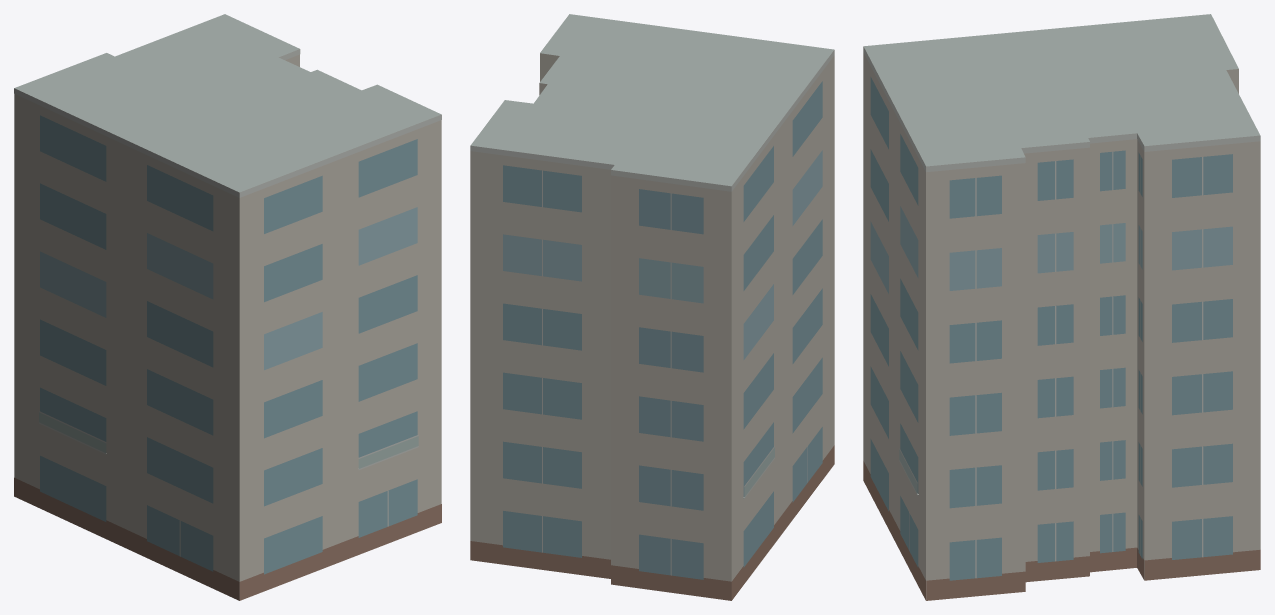
The model's file is survey-upis-32847378.glb.
3 views of the same model, side by side, from view 1: azimuth 30°, elevation 25°; view 2: azimuth 150°, elevation 25°; view 3: azimuth 270°, elevation 25° (orthographic). The views are drawn at different scales.
Visible parts, largest first — view 1: survey-upis-32847378.tmp; view 2: survey-upis-32847378.tmp; view 3: survey-upis-32847378.tmp.
Part boxes in pixels (x1=…): survey-upis-32847378.tmp: x1=14, y1=14, x2=441, y2=600; survey-upis-32847378.tmp: x1=470, y1=14, x2=834, y2=600; survey-upis-32847378.tmp: x1=863, y1=14, x2=1260, y2=600.
Bounding box in the file's own units: 13.86 × 18.4 × 15.25.
